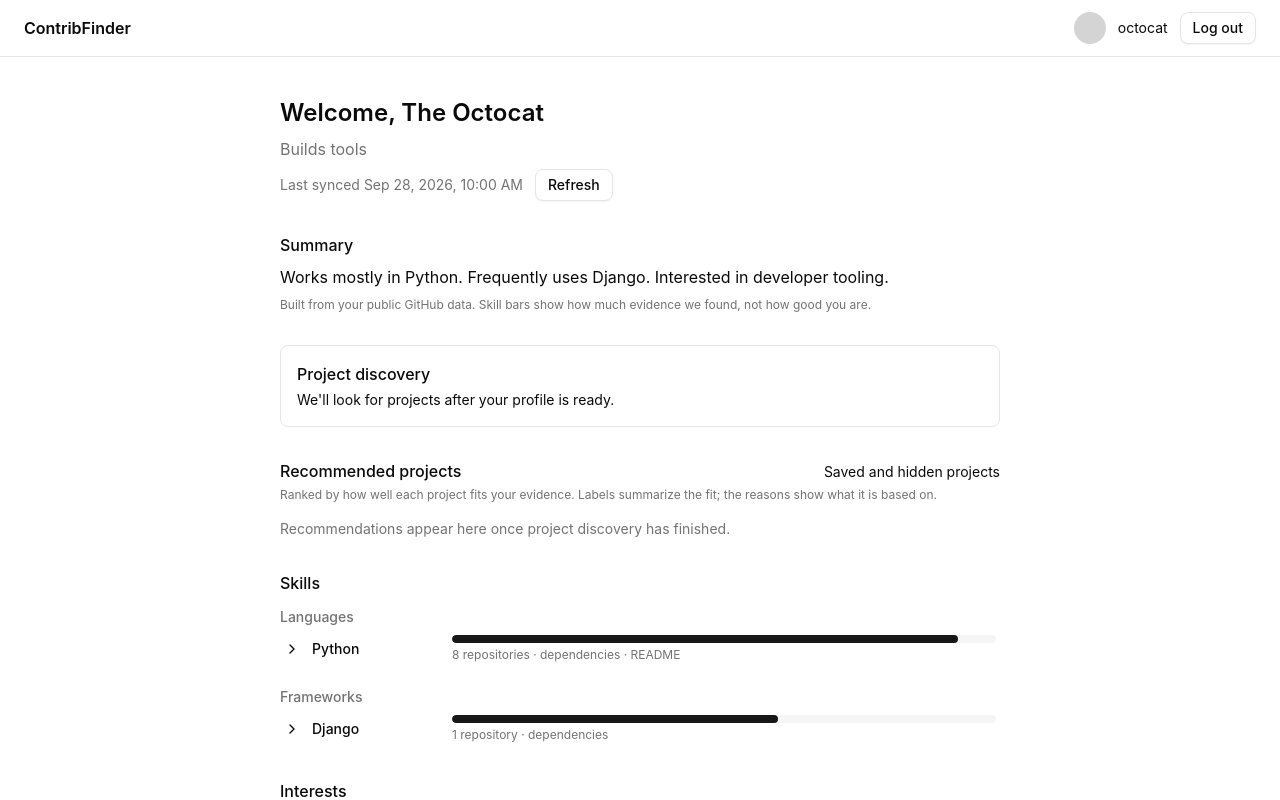
Test case: profile page › expands a skill to show its evidence with repository links
Click the text titled "Django".
click(336, 728)  # box top-left (312, 720), bottom-right (359, 737)
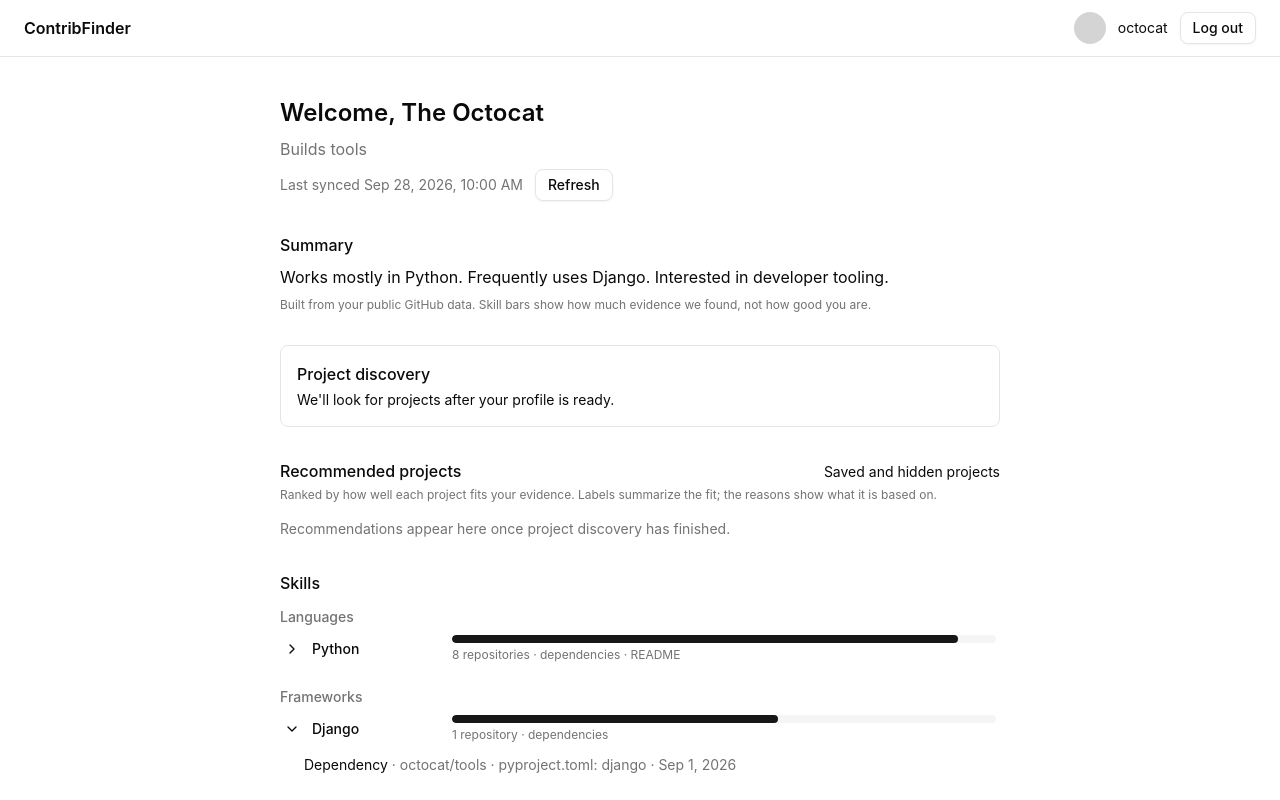
Expected: the text "Dependency" is shown, top-left (304, 756), bottom-right (388, 773)
